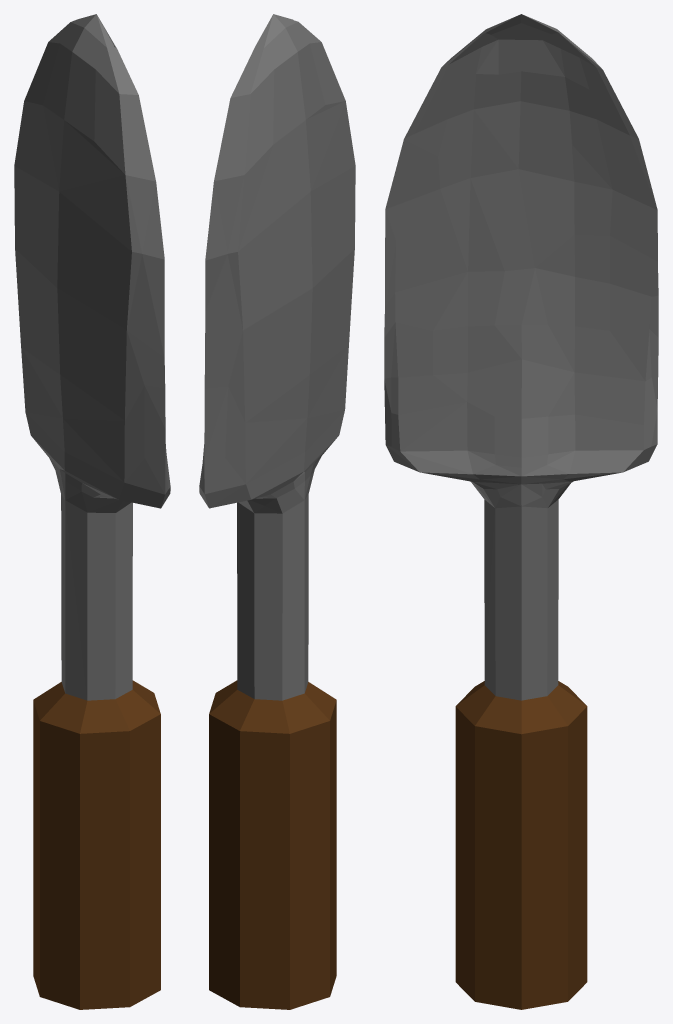
Rendered from trowel.glb.
The picture shows the model from 3 angles, left to right: view 1: azimuth 30°, elevation 25°; view 2: azimuth 150°, elevation 25°; view 3: azimuth 270°, elevation 25°; orthographic projection.
Parts seen in each view (by area): view 1: Cylinder; view 2: Cylinder; view 3: Cylinder.
Boxes of the visible parts, box(x1,y1,x2,y2) form: Cylinder: box(14, 14, 170, 1009); Cylinder: box(199, 14, 355, 1009); Cylinder: box(384, 14, 658, 1009).
Size of the model in its own units: 0.0613 by 0.496 by 0.1275.
